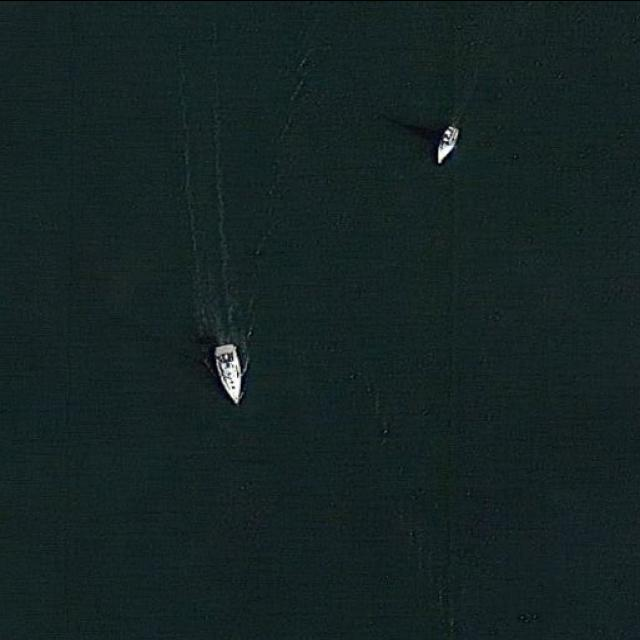ship: (210, 341, 243, 404), (432, 125, 460, 166)
